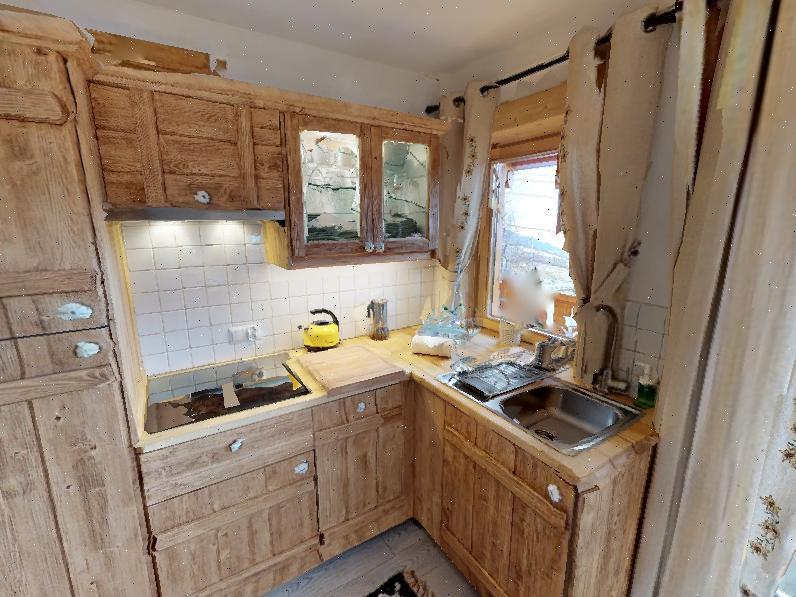sink: (472, 282, 655, 515)
